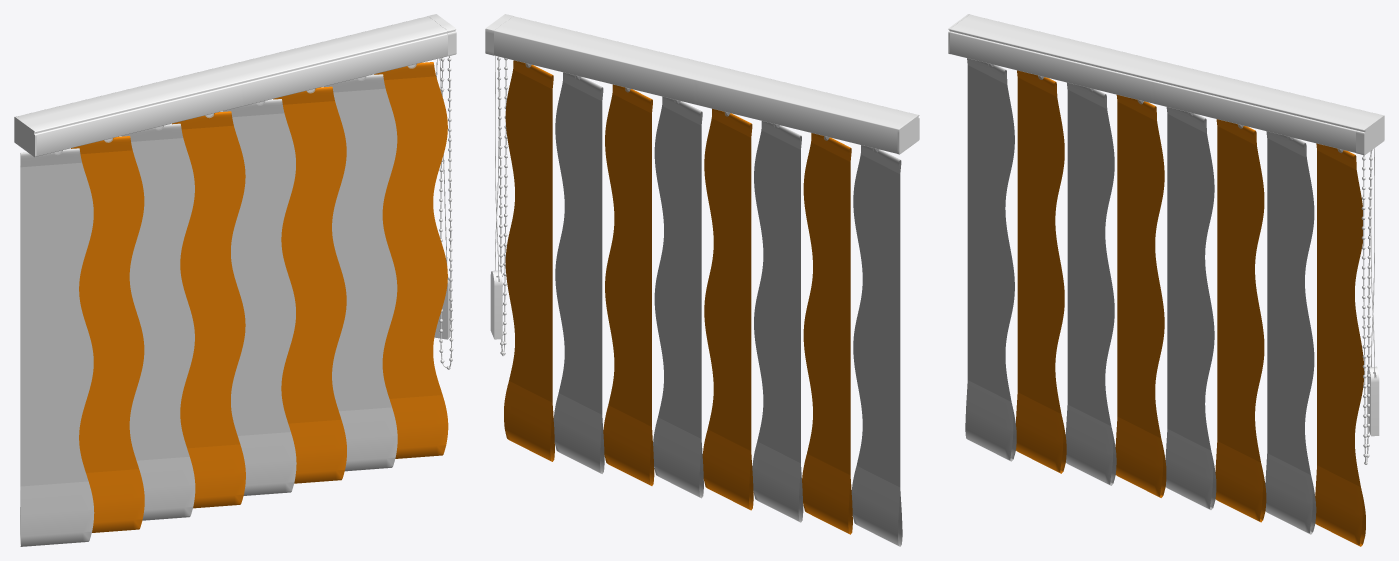
File: Wavelines (gleichlaeufig).glb
The picture shows the model from 3 angles, left to right: view 1: azimuth 30°, elevation 25°; view 2: azimuth 150°, elevation 25°; view 3: azimuth 330°, elevation 25°; orthographic projection.
Parts seen in each view (by area): view 1: Plane.002, Plane.003, Plane.008, Plane.001, Plane.007, Plane.004, Plane.006, Plane.005, Cube, Sphere.001, Cube.001, BezierCurve.001 (+1 smaller); view 2: Cube, Plane.002, Plane.004, Plane.007, Plane.001, Plane.005, Plane.008, Plane.003, Plane.006, Cylinder.003, Sphere.001, BezierCurve.001 (+2 smaller); view 3: Cube, Plane.002, Plane.001, Plane.003, Plane.004, Plane.005, Plane.006, Plane.007, Plane.008, Cube.005, BezierCurve.001, Sphere.001 (+1 smaller).
Part boxes in pixels (left/top/right/bottom): Plane.002: left=20, top=148, right=94, bottom=546; Plane.003: left=121, top=123, right=195, bottom=520; Plane.008: left=374, top=62, right=448, bottom=458; Plane.001: left=71, top=136, right=144, bottom=532; Plane.007: left=324, top=74, right=397, bottom=471; Plane.004: left=172, top=111, right=245, bottom=508; Plane.006: left=273, top=86, right=346, bottom=483; Plane.005: left=222, top=99, right=296, bottom=495; Cube: left=17, top=16, right=447, bottom=156; Sphere.001: left=439, top=57, right=453, bottom=369; Cube.001: left=14, top=116, right=36, bottom=157; BezierCurve.001: left=440, top=56, right=451, bottom=367; Cube: left=494, top=16, right=916, bottom=153; Plane.002: left=851, top=145, right=902, bottom=546; Plane.004: left=702, top=108, right=753, bottom=510; Plane.007: left=553, top=72, right=604, bottom=473; Plane.001: left=802, top=133, right=852, bottom=534; Plane.005: left=653, top=96, right=703, bottom=498; Plane.008: left=504, top=60, right=554, bottom=461; Plane.003: left=752, top=121, right=803, bottom=522; Plane.006: left=603, top=84, right=654, bottom=485; Cylinder.003: left=490, top=270, right=502, bottom=339; Sphere.001: left=497, top=57, right=507, bottom=355; BezierCurve.001: left=499, top=57, right=506, bottom=355; Cube: left=950, top=14, right=1375, bottom=152; Plane.002: left=965, top=58, right=1016, bottom=461; Plane.001: left=1015, top=70, right=1066, bottom=473; Plane.003: left=1065, top=82, right=1116, bottom=485; Plane.004: left=1115, top=95, right=1166, bottom=497; Plane.005: left=1165, top=107, right=1216, bottom=509; Plane.006: left=1215, top=119, right=1266, bottom=522; Plane.007: left=1265, top=131, right=1316, bottom=534; Plane.008: left=1315, top=143, right=1365, bottom=546; Cube.005: left=1356, top=113, right=1384, bottom=155; BezierCurve.001: left=1363, top=150, right=1371, bottom=462; Sphere.001: left=1361, top=150, right=1372, bottom=464.
Bounding box in the file's own units: 1.31 × 1.25 × 0.1093.
Materials: 4 (1 with a texture image).
